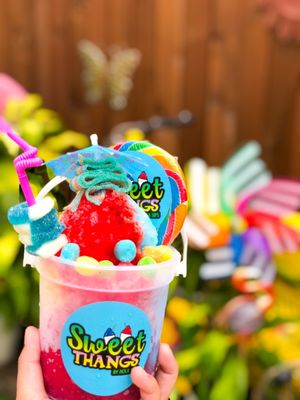pizza: (11, 333, 181, 400)
